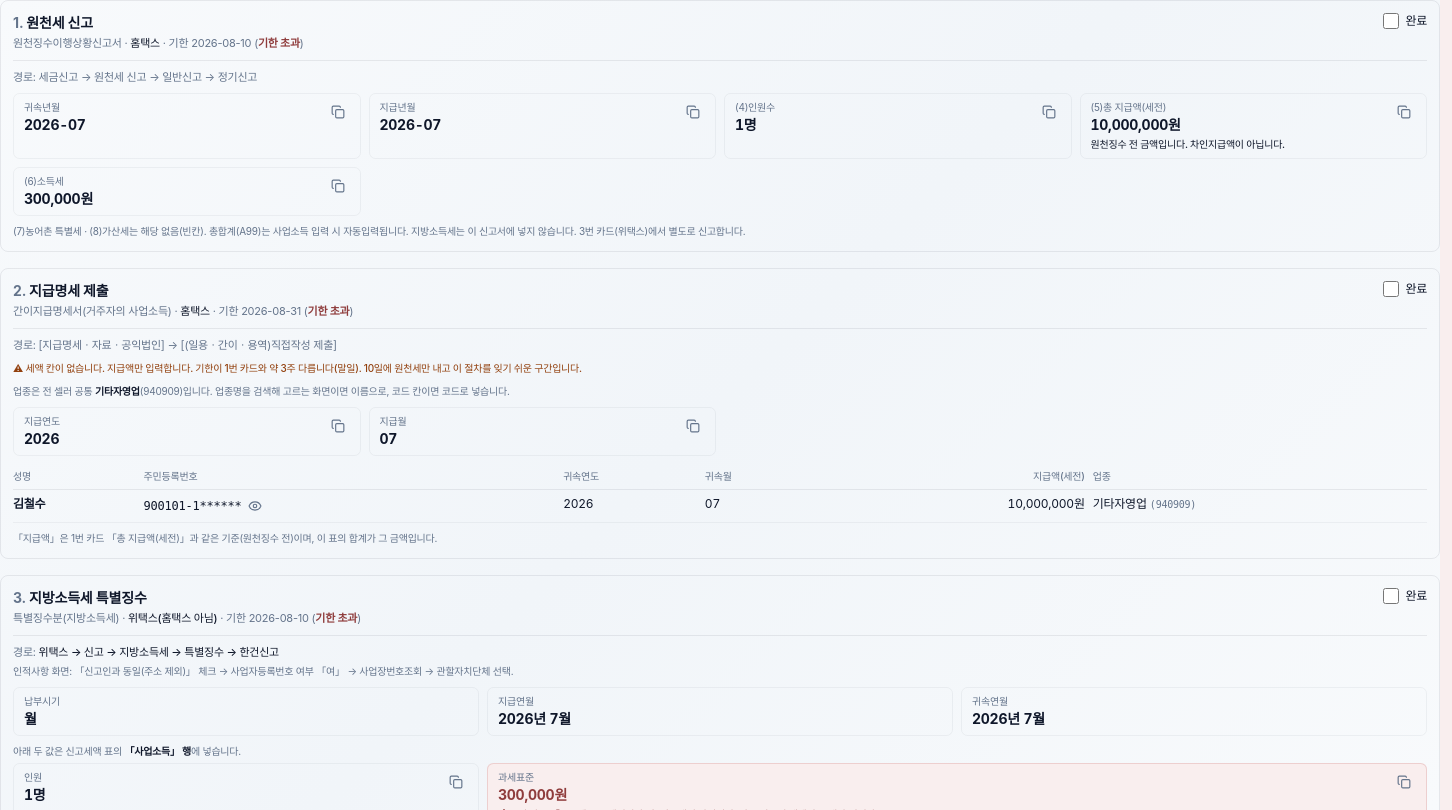
Test: 원천징수 절차 3카드 › 주민등록번호는 기본 마스킹이고 행 단위로만 펼쳐진다
The image size is (1452, 810).
expect the text "김철수" is shown: met, box x1=13 y1=496 x2=45 y2=511
expect the text "9001011234567" is not shown: met
Click the button named "주민등록번호 보기": x=255, y=506 x1=245 y1=496 x2=265 y2=516
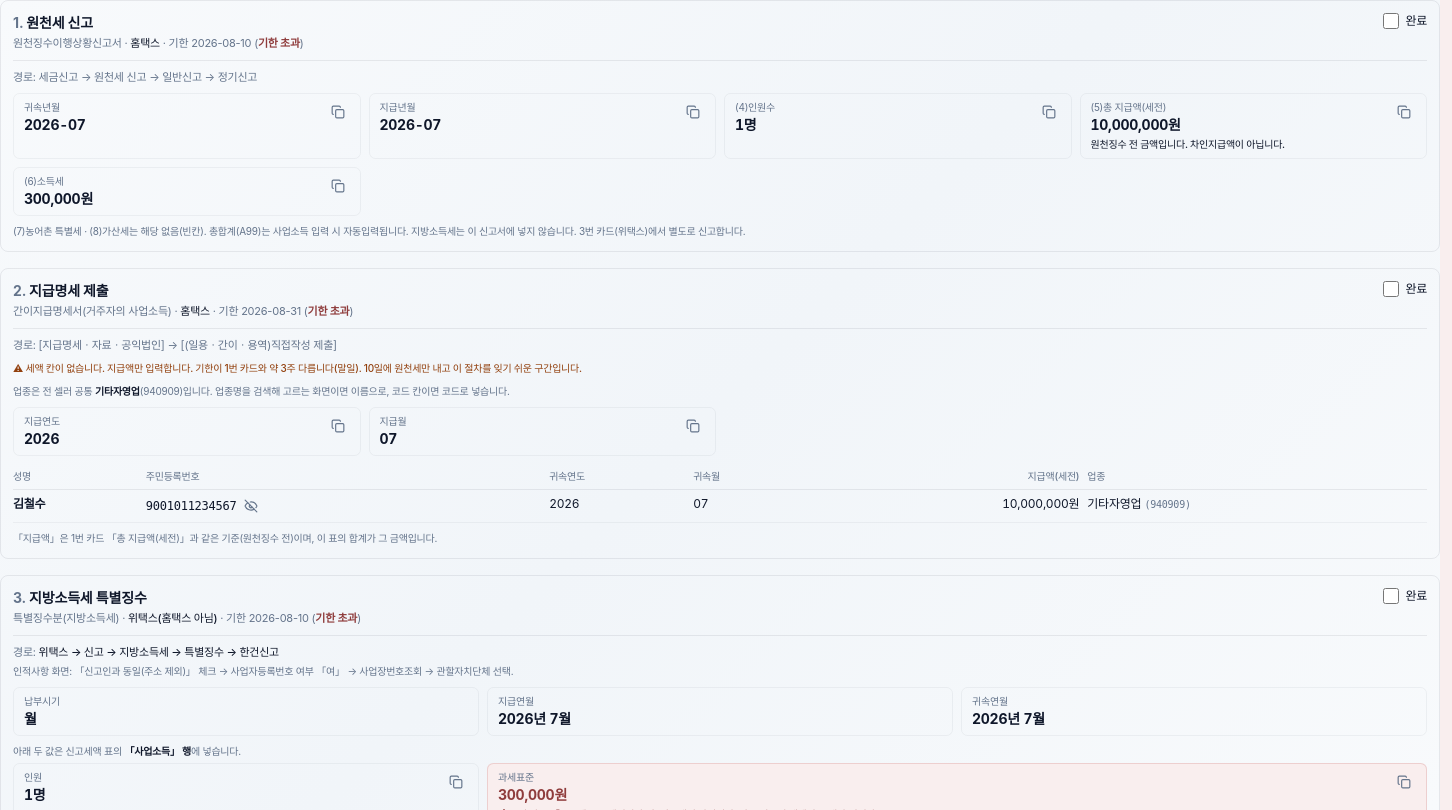
expect the text "9001011234567" is shown: met, box x1=146 y1=498 x2=236 y2=514
